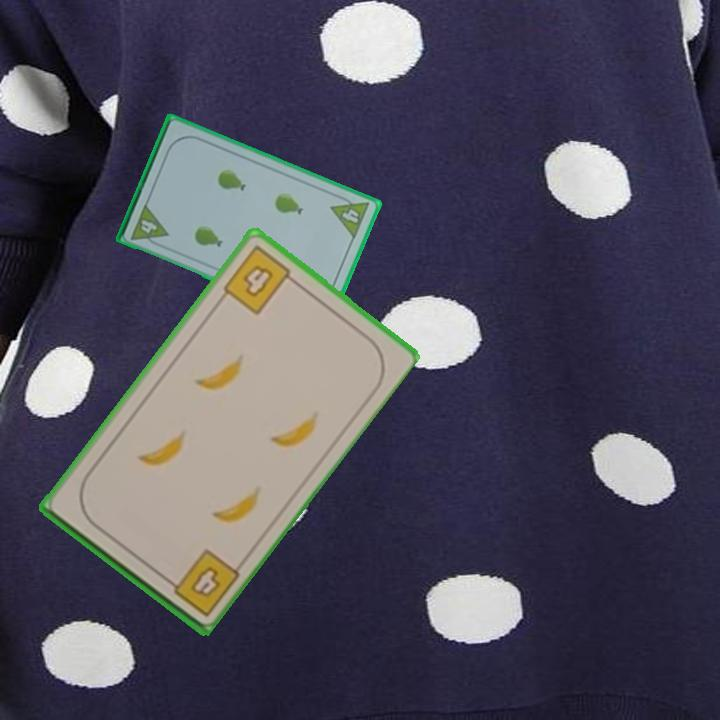4b: (219, 241, 300, 318), (160, 545, 242, 620)
4p: (327, 190, 372, 242), (128, 200, 171, 250)
